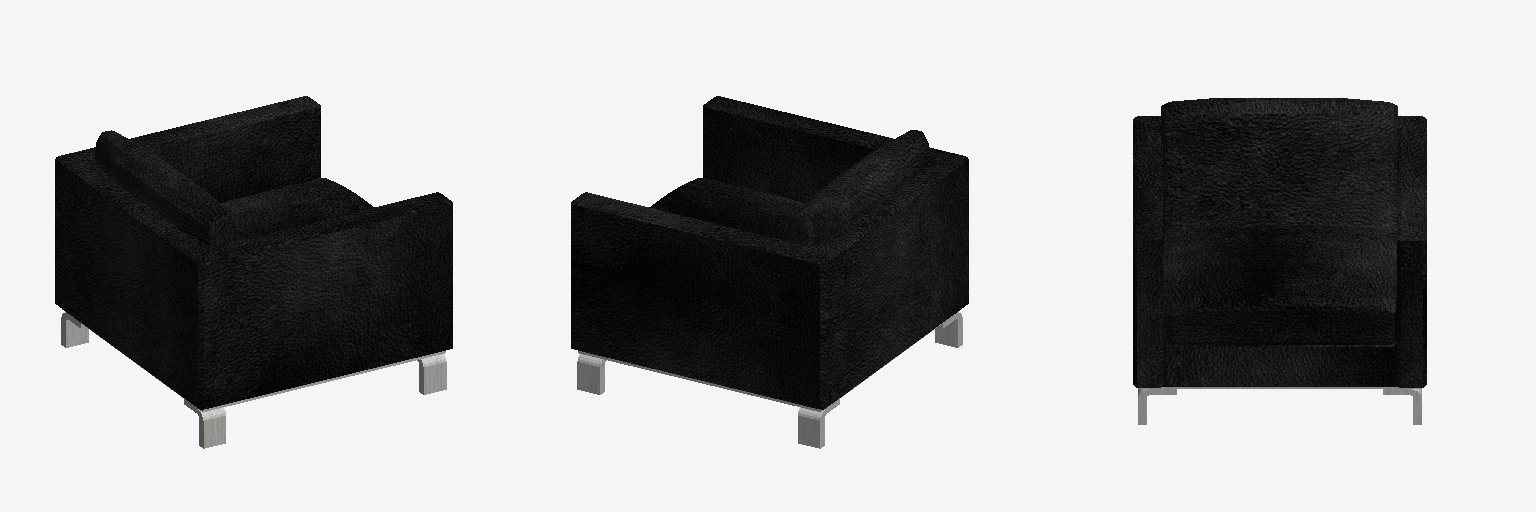
The picture shows the model from 3 angles: view 1: azimuth 30°, elevation 25°; view 2: azimuth 150°, elevation 25°; view 3: azimuth 270°, elevation 25°; orthographic projection.
Parts seen in each view (by area): view 1: armchair; view 2: armchair; view 3: armchair.
Part boxes in pixels (x1,y1,x2,y2): armchair: (55,96,452,448); armchair: (571,96,968,448); armchair: (1133,98,1426,424).
Size of the model in its own units: 10.15 by 8.32 by 10.
Materials: 1 (1 with a texture image).